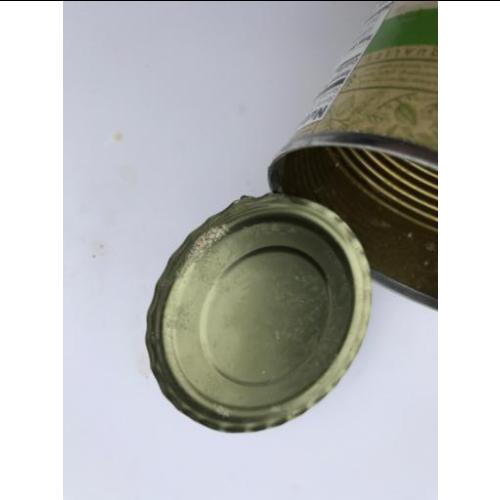metal: (268, 0, 440, 309)
